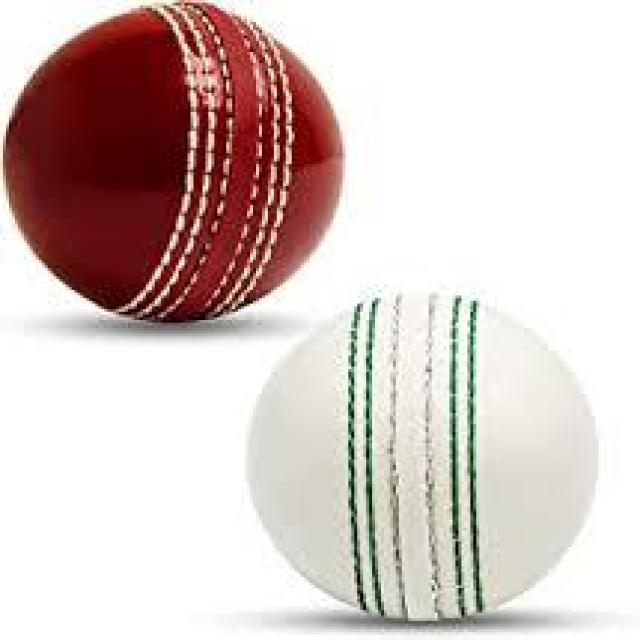ball: (247, 293, 598, 621), (6, 6, 345, 328)
